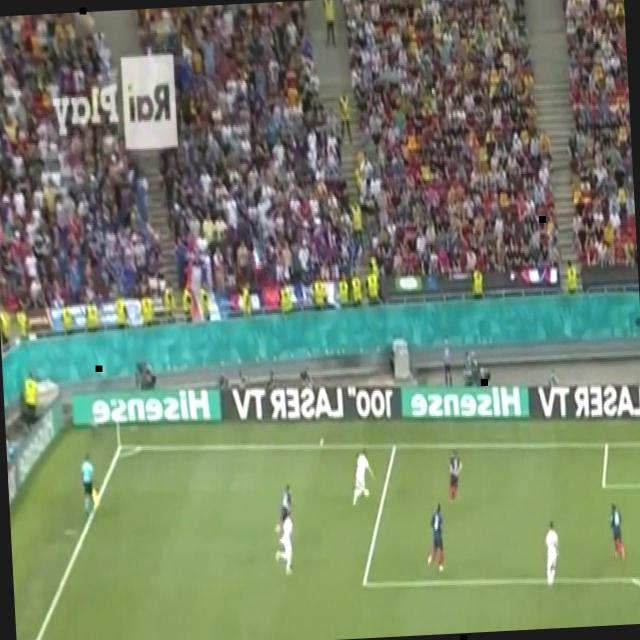ball: (362, 488, 370, 498)
player-white: (348, 447, 376, 508), (424, 500, 446, 575), (272, 509, 296, 576), (272, 482, 296, 534), (543, 519, 561, 586), (79, 451, 97, 517), (607, 502, 626, 562), (446, 446, 464, 505)
